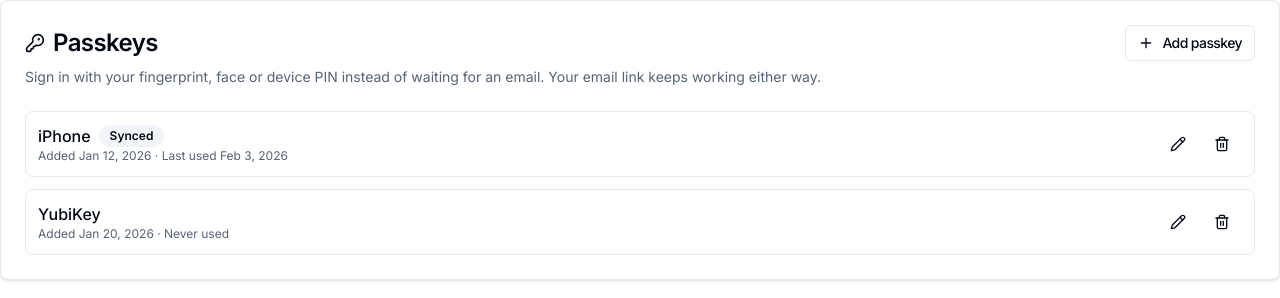
Test: PasskeysCard › sends nothing for an emptied or unchanged name
The image size is (1280, 298).
Expected: the text "iPhone" is shown, [38,124,91,148]
Click the button named "Rename iPhone" at (1178,144), box [1158,126,1198,162]
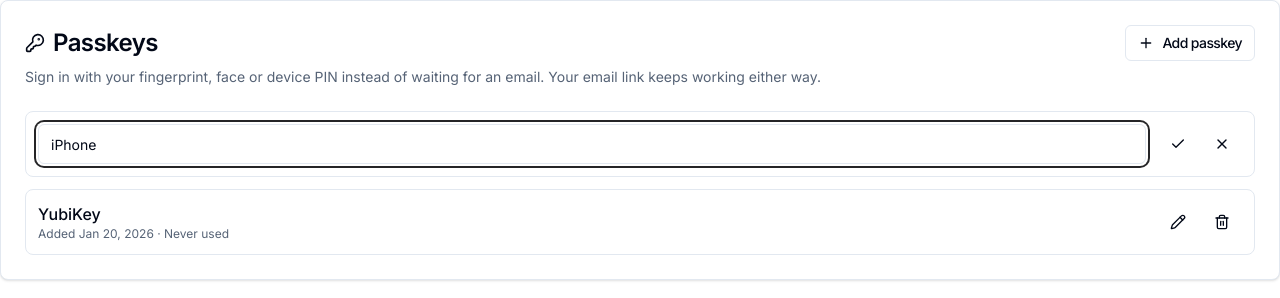
Clear the field named "Passkey name" at (592,144), box [38,124,1146,164]
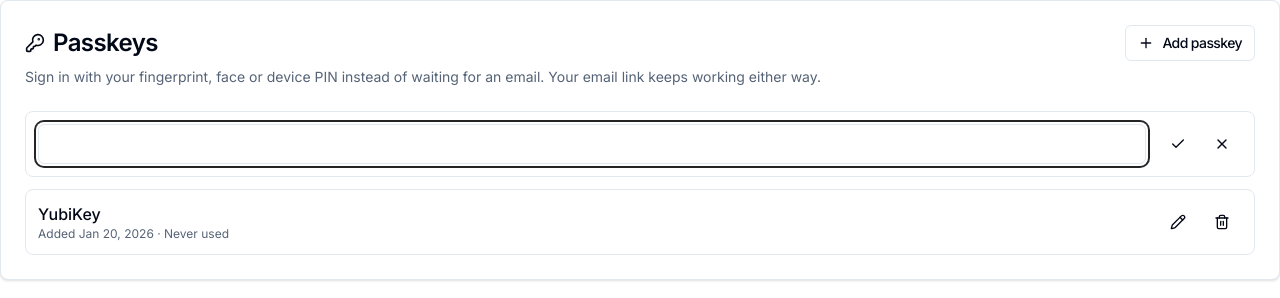
Click the button named "Save name" at (1178,144), box [1158,126,1198,162]
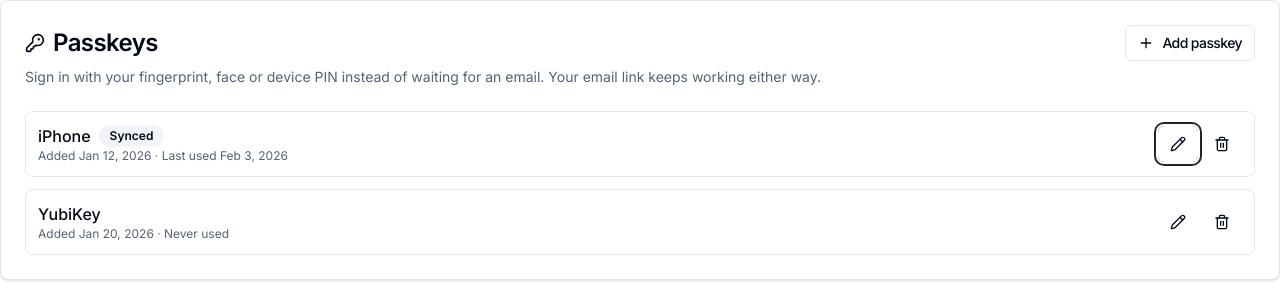
Result: the text "iPhone" is shown at [38,124,91,148]
